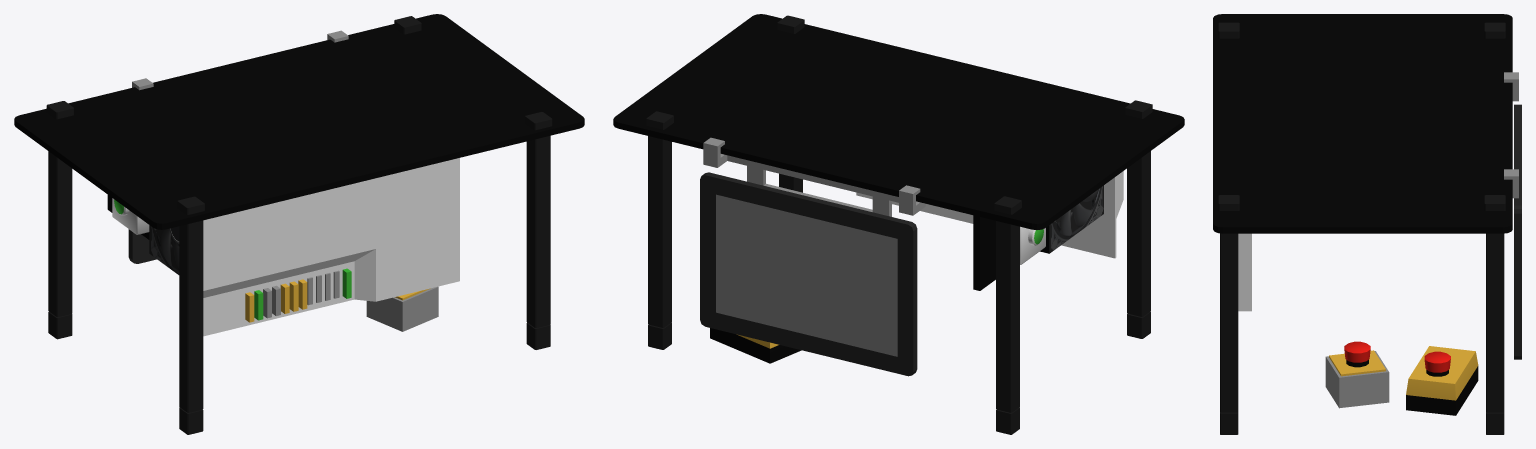
Rendered from 10_Support_MIR.fbx.
3 renders of one model, left to right at view 1: azimuth 30°, elevation 25°; view 2: azimuth 150°, elevation 25°; view 3: azimuth 270°, elevation 25°, orthographic.
Visible parts, largest first — view 1: Support_MIR; view 2: Support_MIR; view 3: Support_MIR.
Boxes of the visible parts, x1,y1,x2,y2 form: Support_MIR: (14,14,584,434); Support_MIR: (613,14,1184,434); Support_MIR: (1213,14,1521,434).
Bounding box in the file's own units: 0.7667 × 0.3877 × 0.469.
11 materials, 1 textured.
